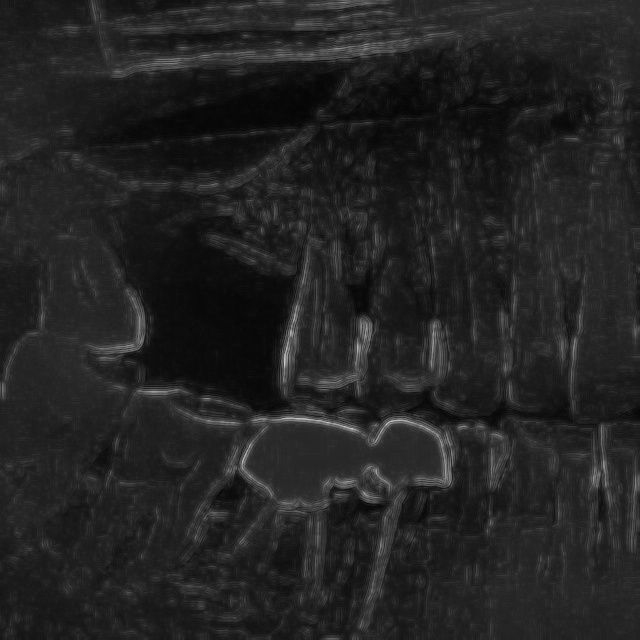Class 0- No endodontic treatment: (340, 410, 437, 640)
Class 1- complete endodontic treatment: (195, 400, 364, 615)
